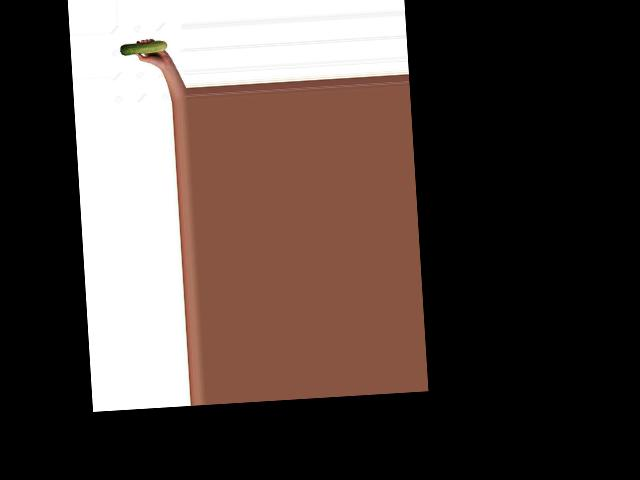cucumber: (119, 41, 168, 56)
